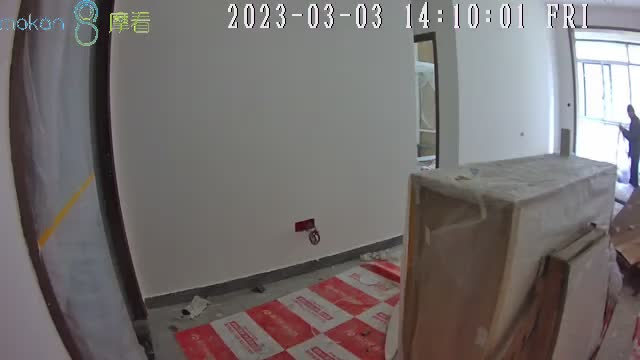people: (621, 105, 640, 197)
window: (569, 28, 640, 176)
